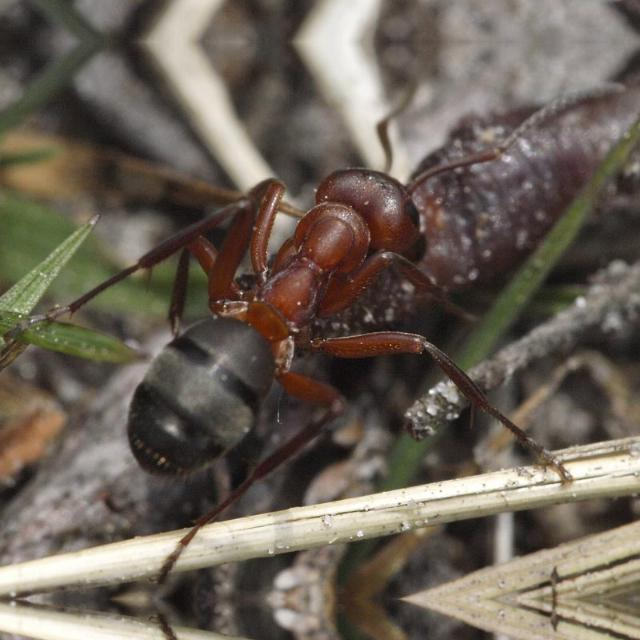Formica: (32, 132, 512, 510)
